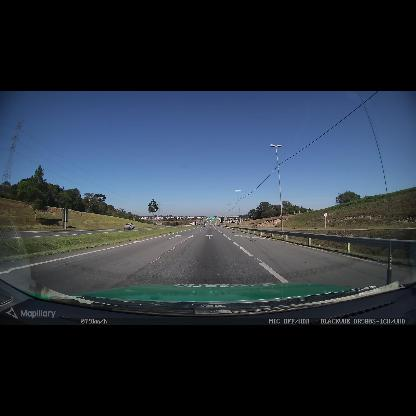R-19: (324, 212, 327, 217)
